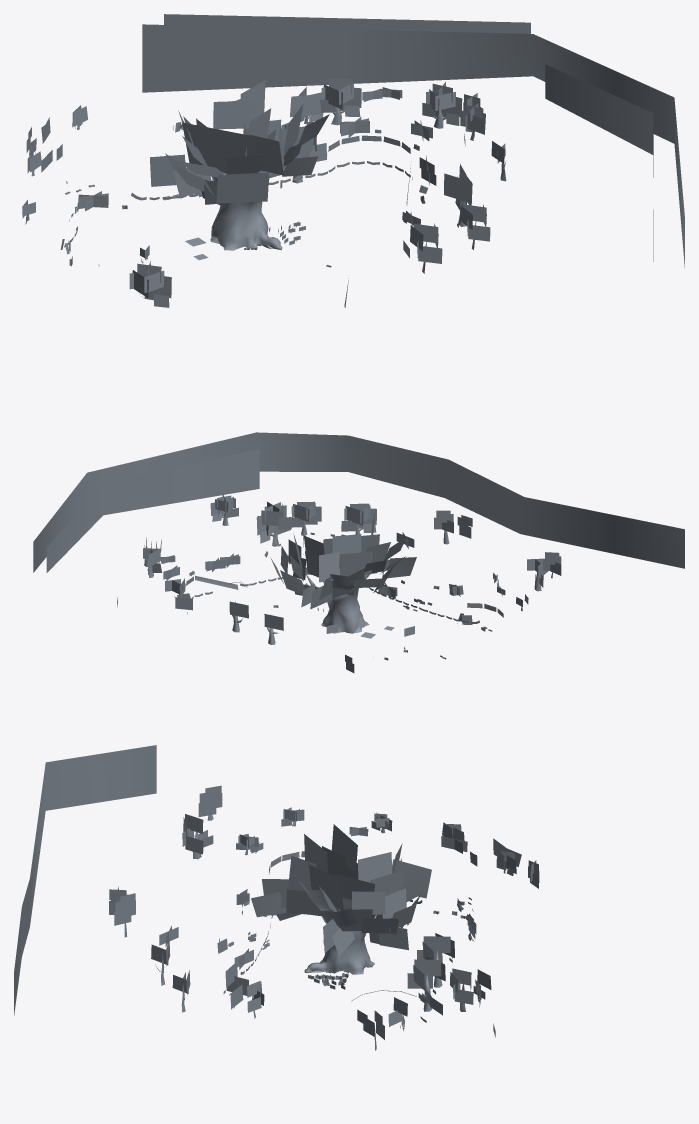
Rendered from gltf__Models__map__Forest__peterPan__peterPan_mergedAlpha01.glb.
The picture shows the model from 3 angles, top to bottom: view 1: azimuth 30°, elevation 25°; view 2: azimuth 150°, elevation 25°; view 3: azimuth 270°, elevation 25°; orthographic projection. The views are drawn at different scales.
Parts seen in each view (by area): view 1: peterPan_mergedAlpha_lv01; view 2: peterPan_mergedAlpha_lv01; view 3: peterPan_mergedAlpha_lv01.
Part boxes in pixels (<box>): peterPan_mergedAlpha_lv01: <box>22,14,684,307</box>; peterPan_mergedAlpha_lv01: <box>33,432,684,673</box>; peterPan_mergedAlpha_lv01: <box>14,745,539,1050</box>.
Size of the model in its own units: 45.26 by 9.86 by 40.
Materials: 2 (2 with a texture image).
